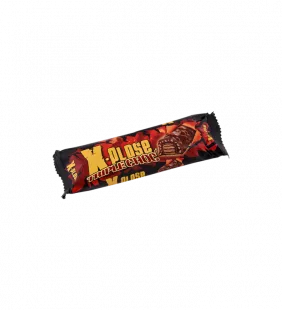XPLOSE: (43, 105, 237, 205)
